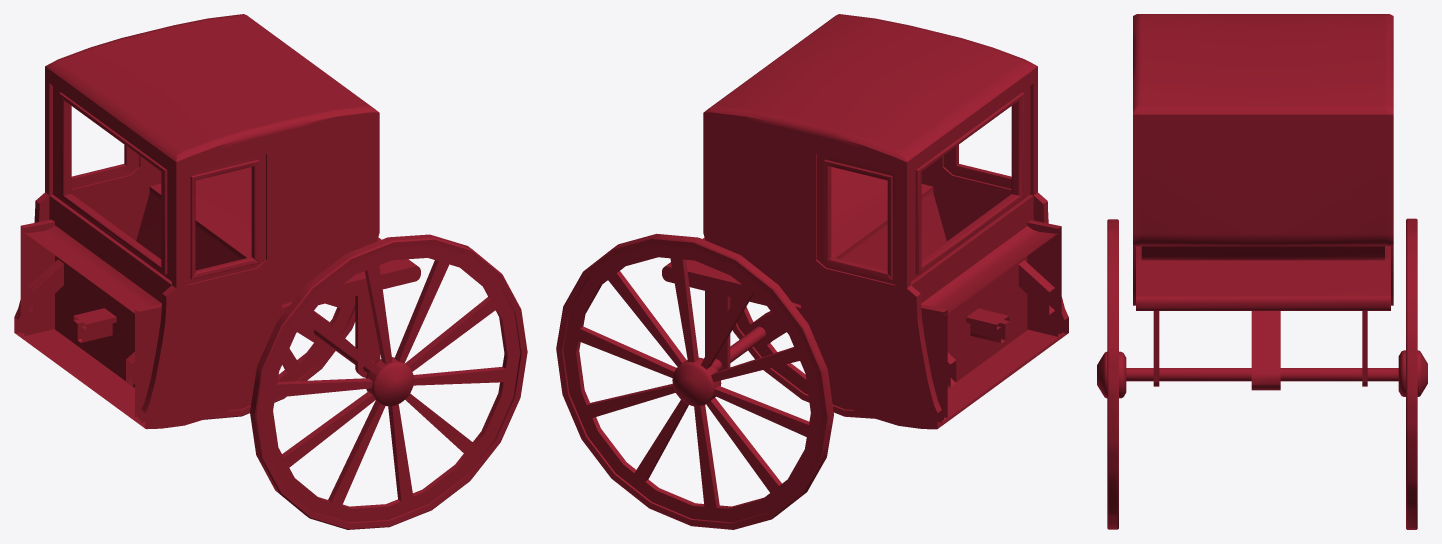
The model's file is ruby-coach.glb.
3 renders of one model, left to right at view 1: azimuth 30°, elevation 25°; view 2: azimuth 150°, elevation 25°; view 3: azimuth 270°, elevation 25°, orthographic.
Parts seen in each view (by area): view 1: ruby-coach; view 2: ruby-coach; view 3: ruby-coach.
Boxes of the visible parts, bbox=[...] form: ruby-coach: bbox=[14, 14, 527, 529]; ruby-coach: bbox=[556, 14, 1068, 529]; ruby-coach: bbox=[1097, 14, 1427, 529].
Size of the model in its own units: 1.67 by 1.79 by 1.3.
